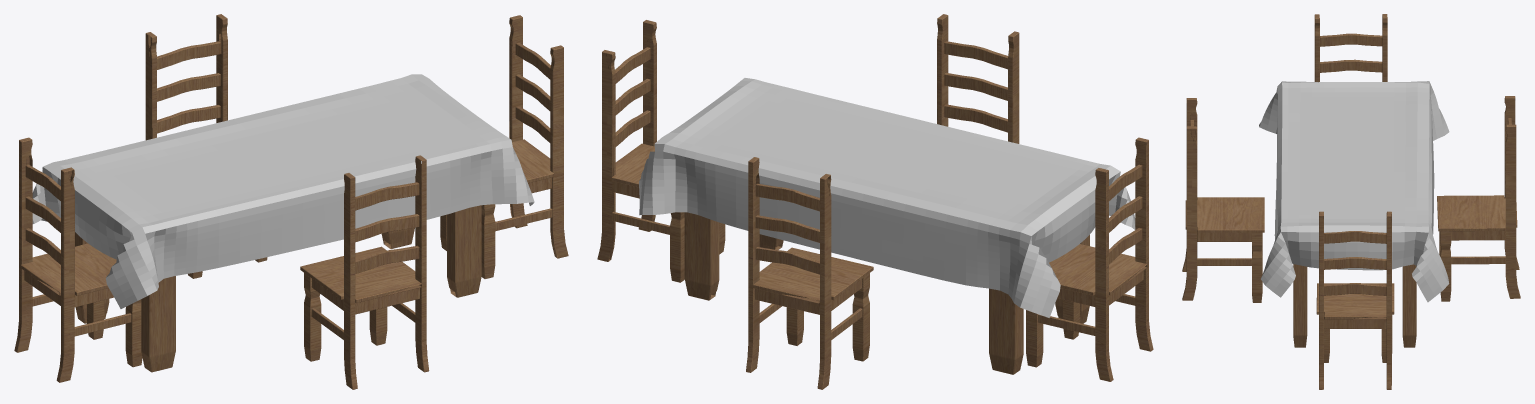
Rendered from Mesa.fbx.
3 renders of one model, left to right at view 1: azimuth 30°, elevation 25°; view 2: azimuth 150°, elevation 25°; view 3: azimuth 270°, elevation 25°, orthographic. The views are drawn at different scales.
Visible parts, largest first — view 1: Plane, Cube.000, Cube.004, Cube.001, Cube.003, Cube.002; view 2: Plane, Cube.002, Cube.004, Cube.001, Cube.003, Cube.000; view 3: Plane, Cube.001, Cube.002, Cube.000, Cube.003, Cube.004.
Part boxes in pixels (x1,y1,x2,y2): Plane: [32, 74, 534, 308]; Cube.000: [300, 155, 429, 389]; Cube.004: [14, 137, 142, 382]; Cube.001: [440, 15, 568, 278]; Cube.003: [75, 205, 481, 372]; Cube.002: [145, 14, 267, 278]; Plane: [639, 78, 1135, 317]; Cube.002: [746, 157, 873, 389]; Cube.004: [1026, 137, 1153, 381]; Cube.001: [597, 20, 725, 282]; Cube.003: [684, 212, 1089, 374]; Cube.000: [937, 14, 1019, 143]; Plane: [1259, 81, 1449, 302]; Cube.001: [1316, 211, 1394, 389]; Cube.002: [1437, 96, 1520, 301]; Cube.000: [1182, 98, 1264, 302]; Cube.003: [1293, 264, 1416, 347]; Cube.004: [1314, 14, 1387, 82].
Size of the model in its own units: 707 by 281 by 492.
